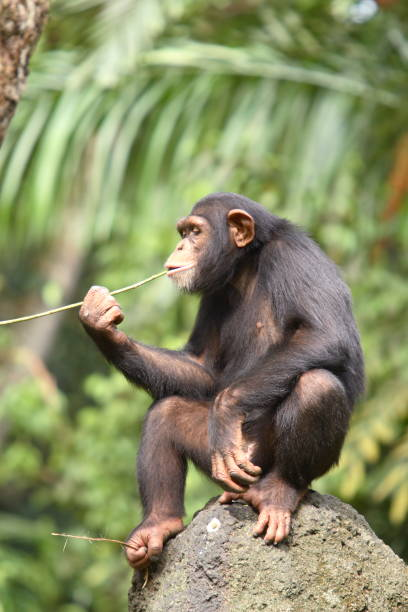chimpanzee: (133, 159, 266, 317)
